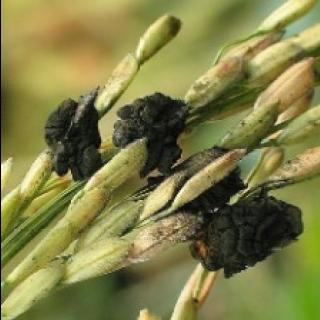Gosong-Palsu: (193, 190, 303, 279), (46, 89, 101, 181), (116, 93, 189, 149), (177, 167, 244, 211), (140, 140, 179, 176)
